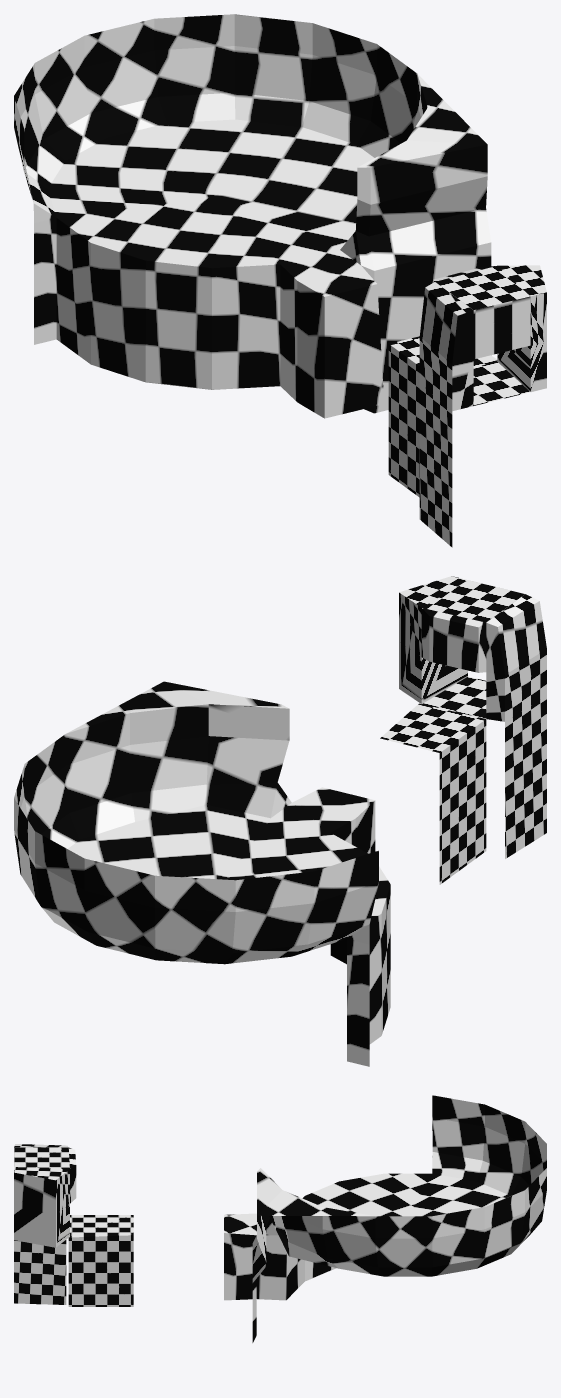
The model's file is puzzle1.fbx.
The picture shows the model from 3 angles, top to bottom: view 1: azimuth 30°, elevation 25°; view 2: azimuth 150°, elevation 25°; view 3: azimuth 270°, elevation 25°; orthographic projection. The views are drawn at different scales.
Parts seen in each view (by area): view 1: Puzzle1; view 2: Puzzle1; view 3: Puzzle1.
Boxes of the visible parts, <box> form: Puzzle1: <box>14,14,546,547</box>; Puzzle1: <box>14,576,546,1066</box>; Puzzle1: <box>14,1095,546,1342</box>.
Size of the model in its own units: 3689 by 6869 by 2446.
